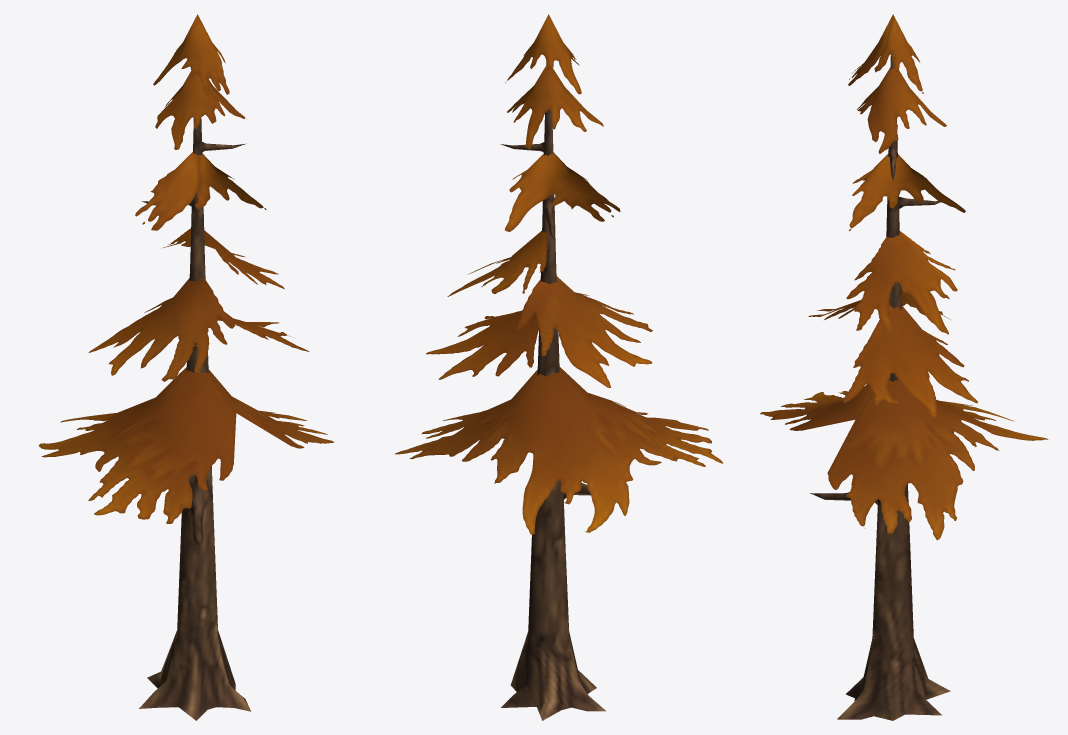
The model's file is new_tree_red_2.FBX.
3 views of the same model, side by side, from view 1: azimuth 30°, elevation 25°; view 2: azimuth 150°, elevation 25°; view 3: azimuth 270°, elevation 25° (orthographic).
Parts seen in each view (by area): view 1: new_tree_red_2; view 2: new_tree_red_2; view 3: new_tree_red_2.
Boxes of the visible parts, x1,y1,x2,y2 form: new_tree_red_2: (38,14,333,720); new_tree_red_2: (395,14,722,720); new_tree_red_2: (760,14,1048,720).
Size of the model in its own units: 86.74 by 197 by 77.27.
Materials: 1 (1 with a texture image).
